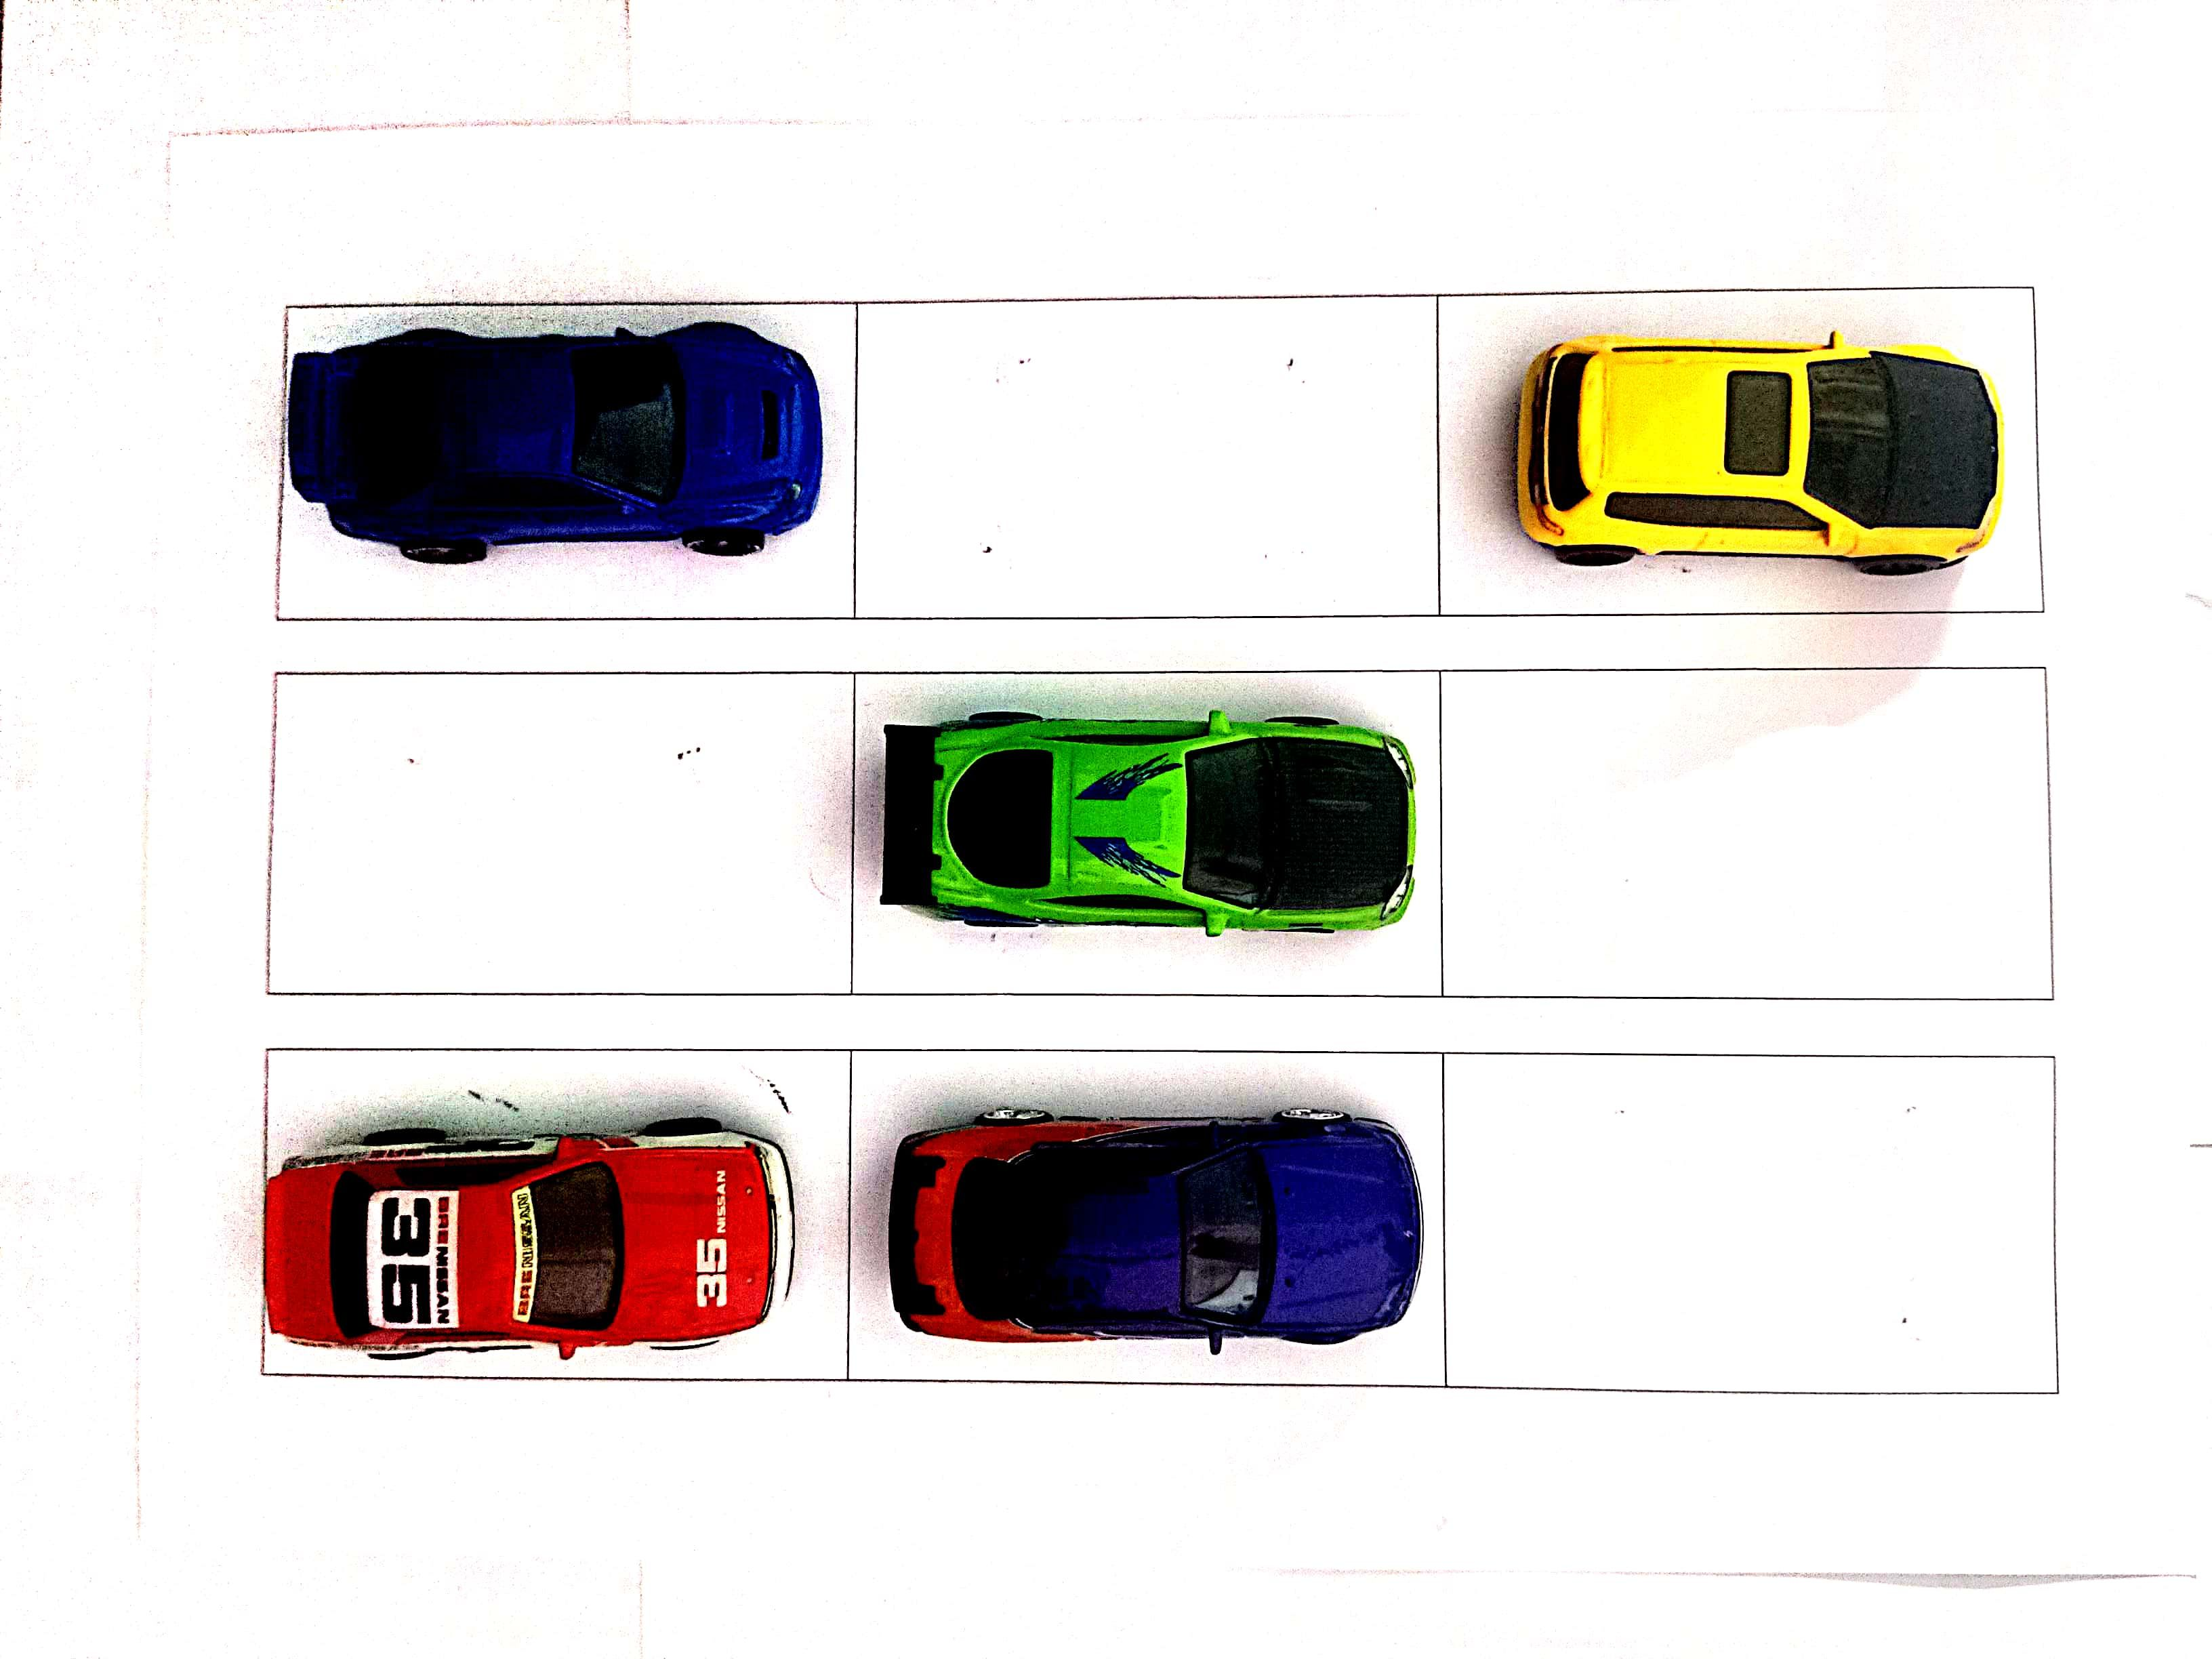Busy: (852, 1046, 1447, 1387), (263, 1053, 852, 1375), (1439, 296, 2041, 606), (848, 678, 1439, 990), (282, 298, 848, 620)
Free: (1446, 1054, 2050, 1391), (1442, 662, 2055, 986), (853, 303, 1437, 613), (273, 678, 852, 986)
